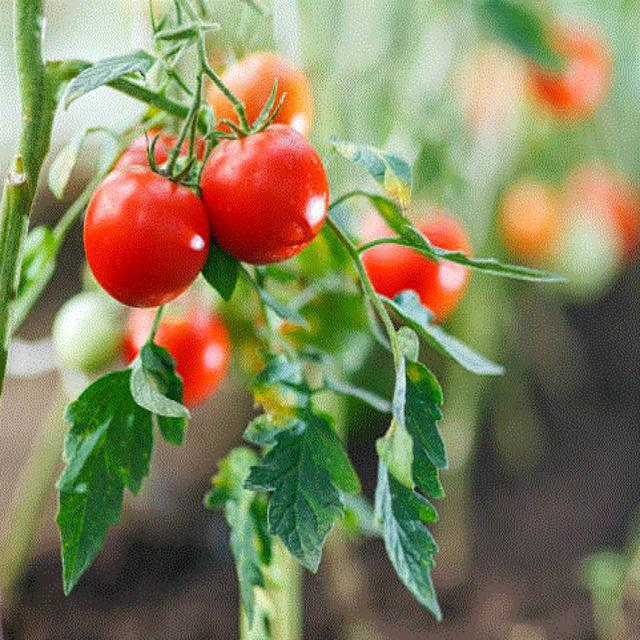Healthy Fruit: (49, 35, 383, 238)
